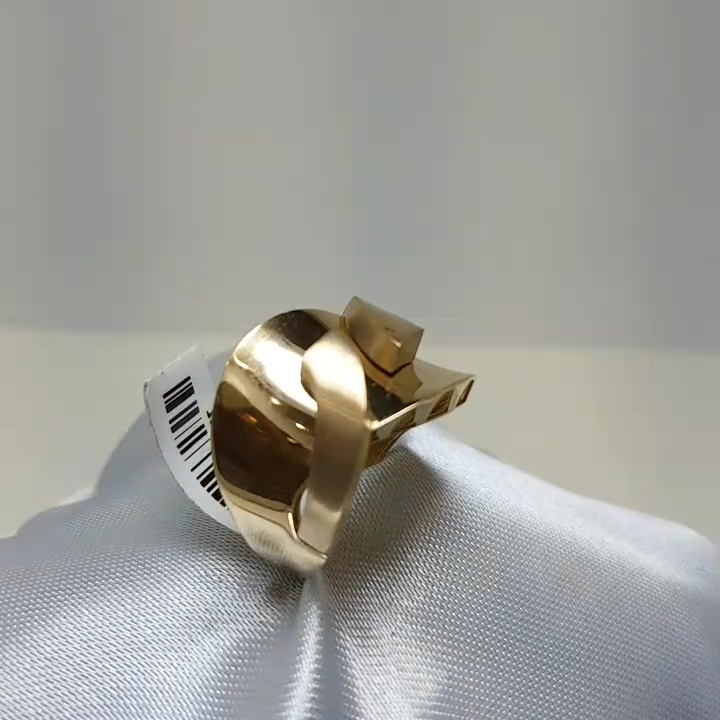Ring 4: (161, 296, 486, 588)
